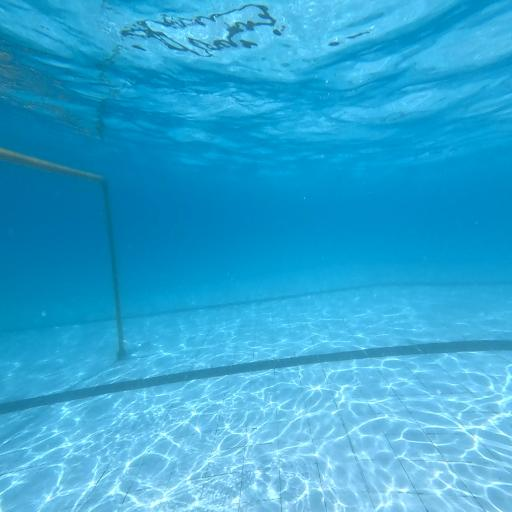gate: (1, 147, 149, 394)
